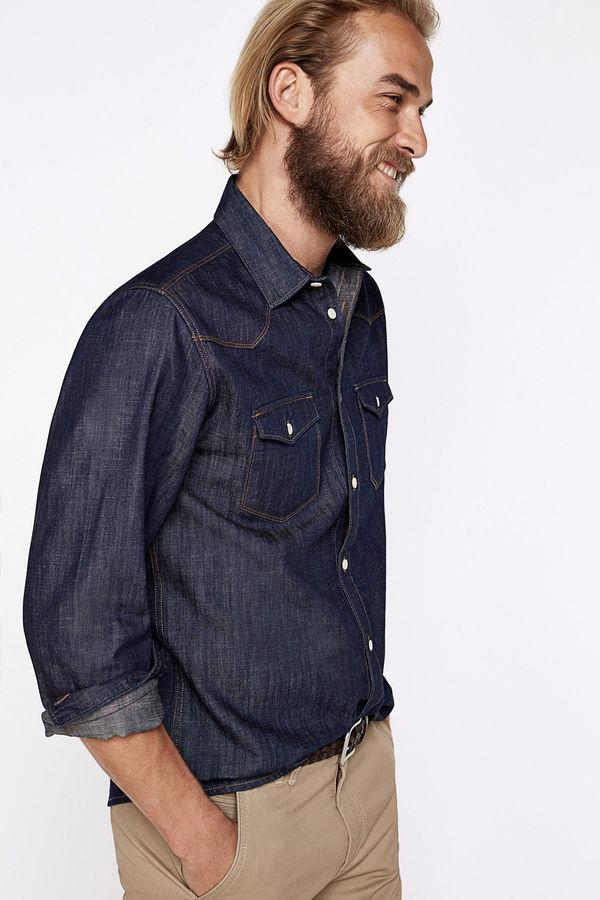teeshirt: (27, 169, 412, 788)
